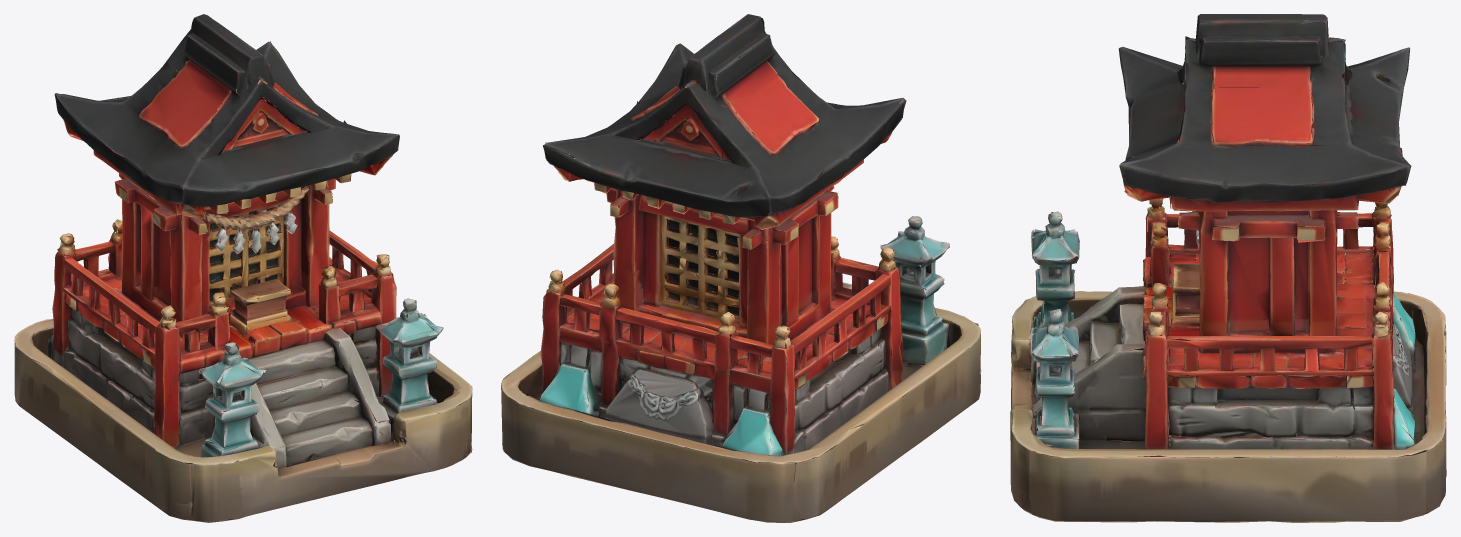
The model's file is Shrine_town.glb.
3 views of the same model, side by side, from view 1: azimuth 30°, elevation 25°; view 2: azimuth 150°, elevation 25°; view 3: azimuth 270°, elevation 25° (orthographic). The views are drawn at different scales.
Parts seen in each view (by area): view 1: Shrine; view 2: Shrine; view 3: Shrine.
Part boxes in pixels (x1,y1,x2,y2): Shrine: (14,14,472,522); Shrine: (501,14,981,522); Shrine: (1010,14,1446,522).
Size of the model in its own units: 1.69 by 2 by 1.87.
Materials: 1 (1 with a texture image).
